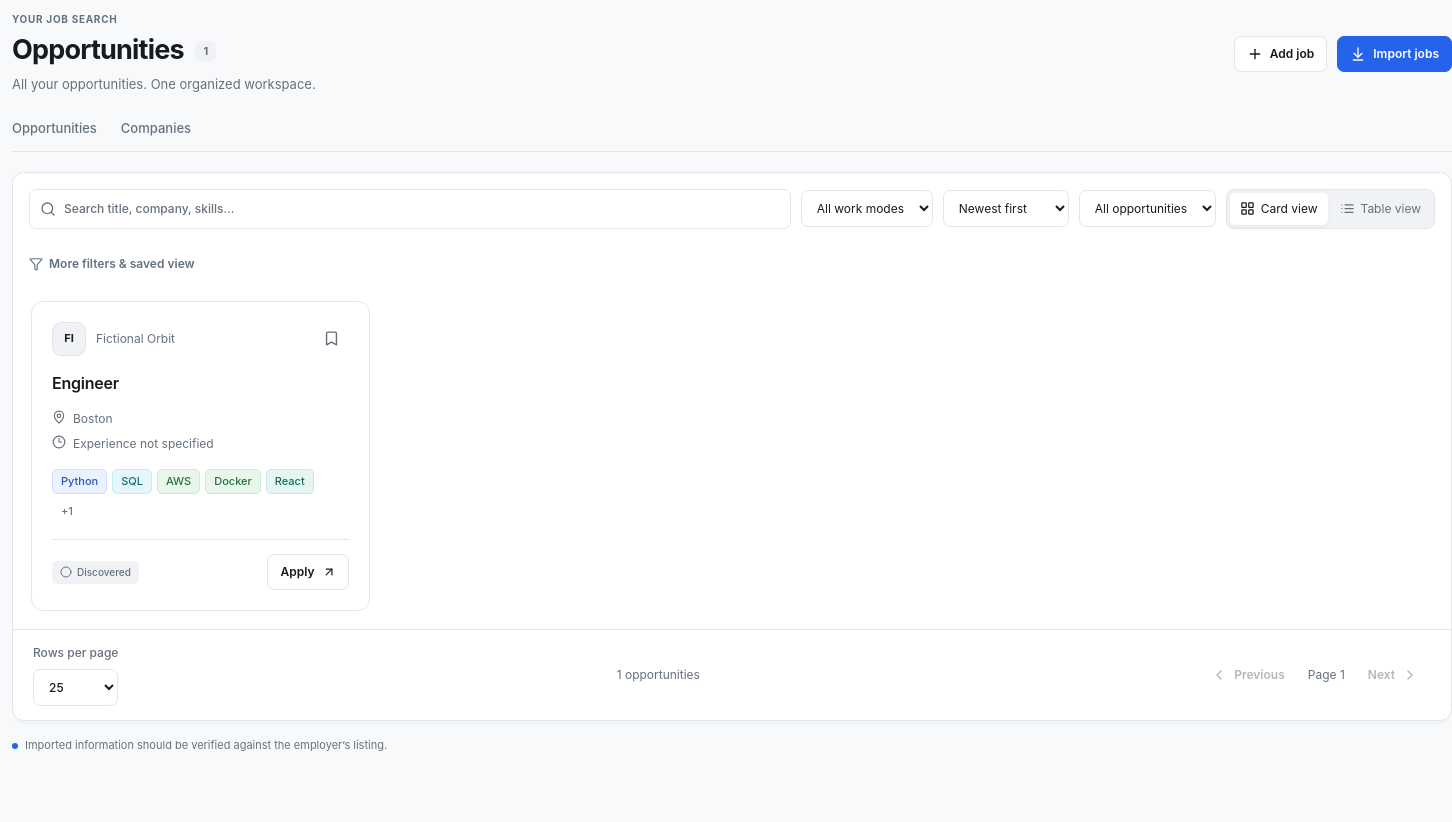
defaults to cards and retains a persisted table with column controls
Check: the element named "Engineer at Fictional Orbit" is shown, box [31, 301, 370, 611]
Check: the table is not shown
Click the button "Table view" at (1380, 209), box [1330, 193, 1431, 225]
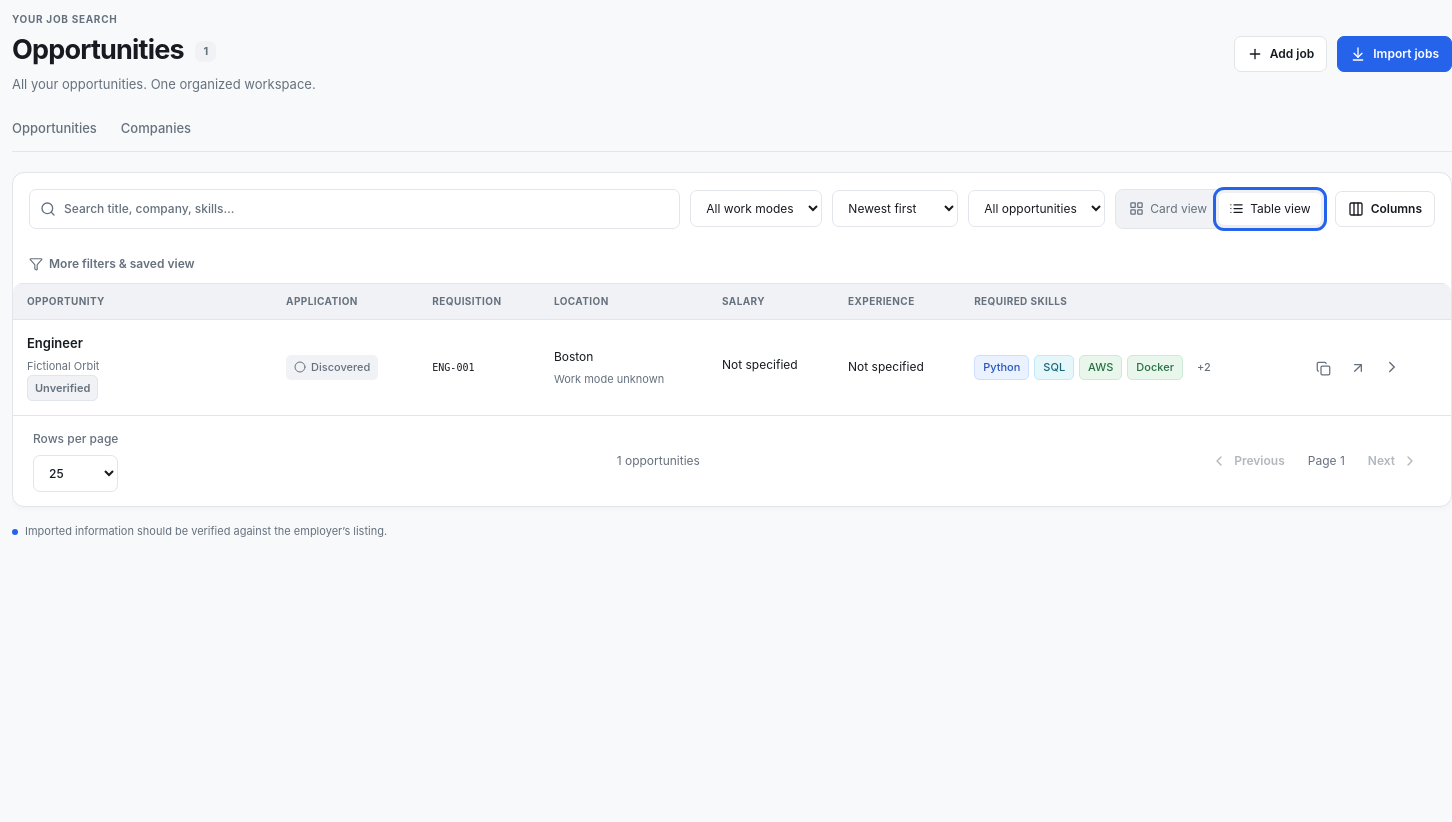
Check: the table shows "Boston", box [554, 349, 593, 364]
Click the button "Columns" at (1385, 209), box [1335, 191, 1435, 227]
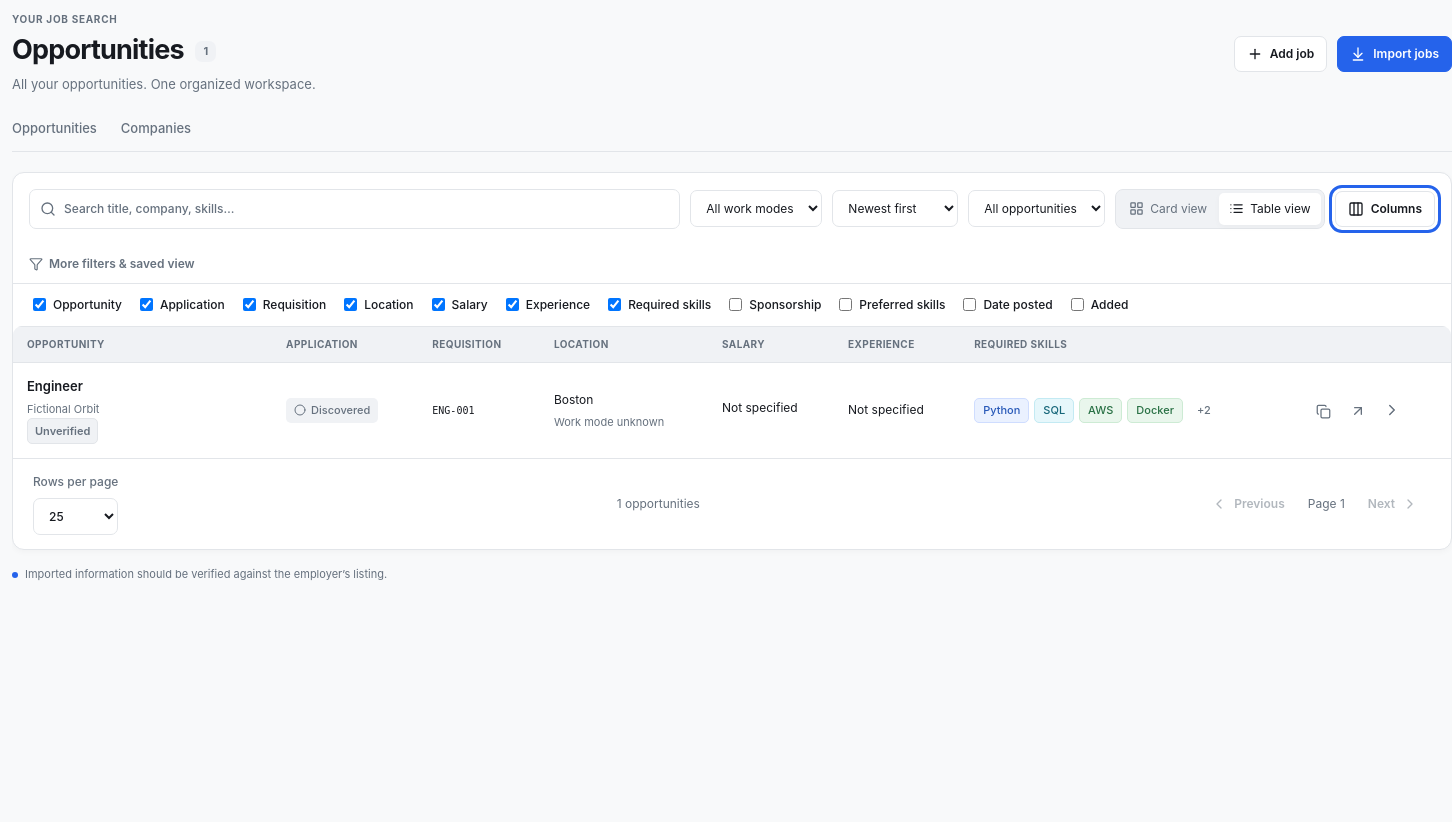
Check: the checkbox labelled "Preferred skills" is not checked
Click the checkbox labelled "Preferred skills" at (846, 305), box [839, 298, 852, 311]
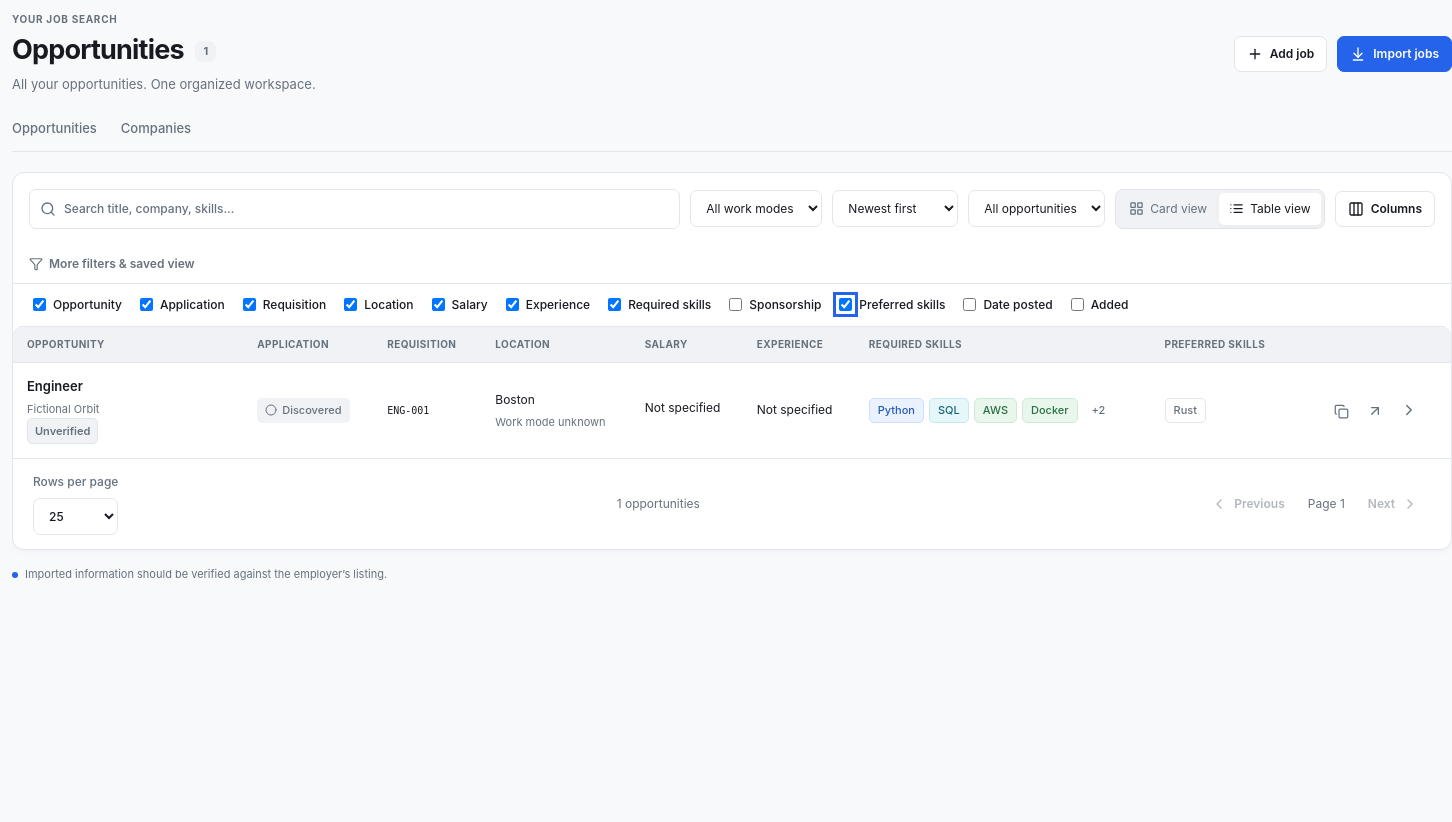
Check: the table shows "Rust", box [1174, 403, 1197, 417]
